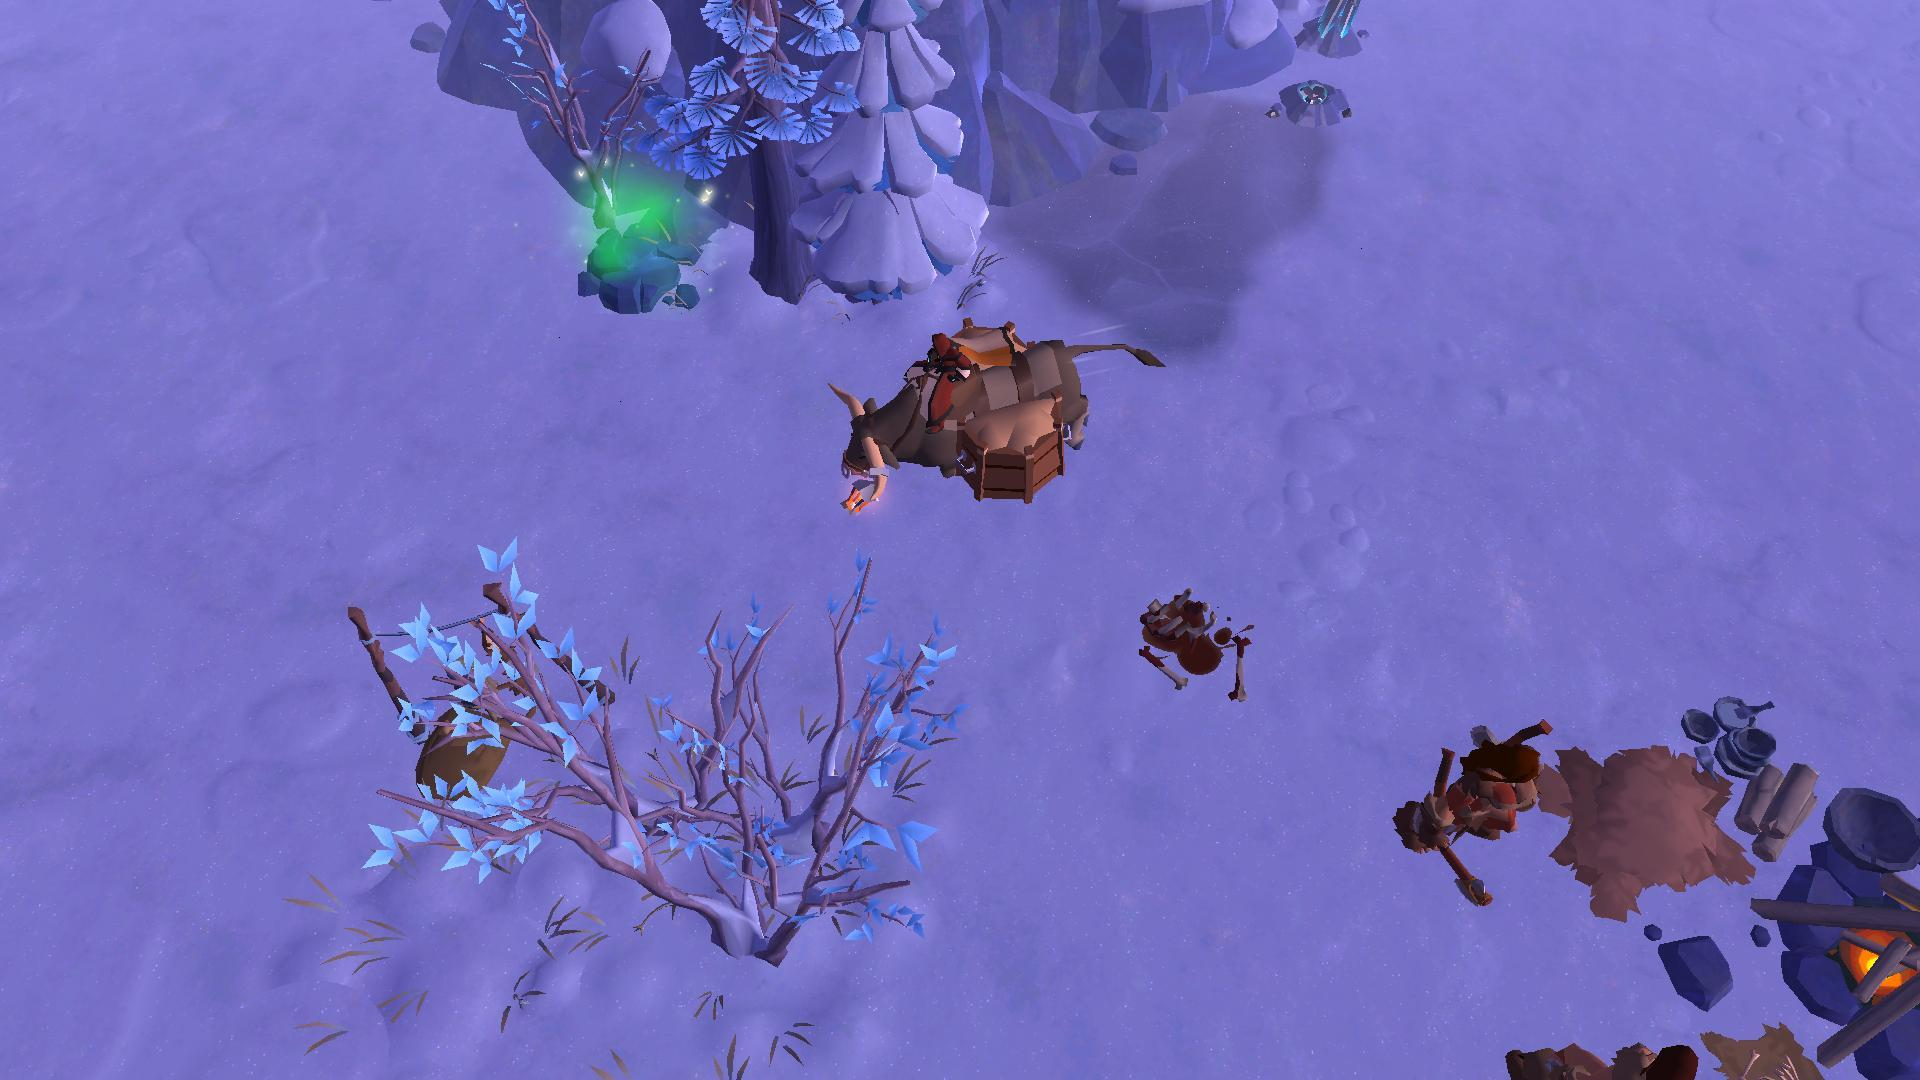enemy_factionKeeper: (1420, 709, 1540, 906), (1524, 1027, 1693, 1080)
ore_t4: (1304, 0, 1371, 50)
